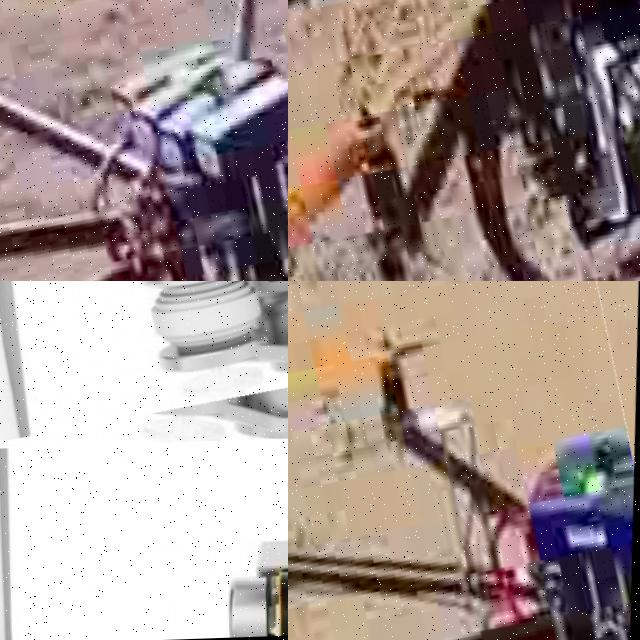drone: (288, 281, 640, 640), (288, 0, 640, 281), (0, 0, 288, 281), (0, 281, 288, 459)
